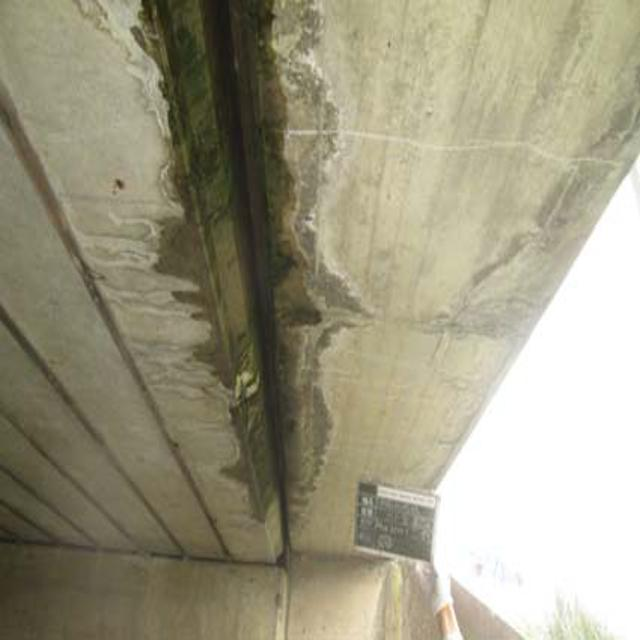leakage: (115, 12, 342, 524)
